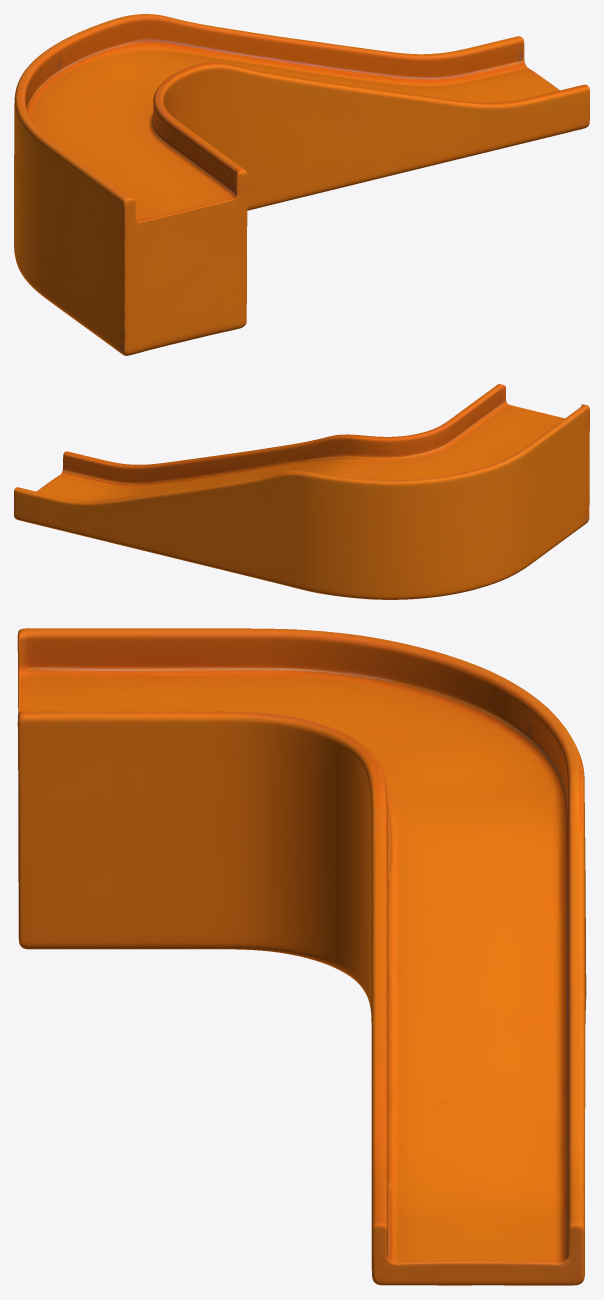
Rendered from ramp left turn.glb.
3 renders of one model, top to bottom at view 1: azimuth 30°, elevation 25°; view 2: azimuth 150°, elevation 25°; view 3: azimuth 270°, elevation 25°, orthographic. The views are drawn at different scales.
Parts seen in each view (by area): view 1: material; view 2: material; view 3: material.
Part boxes in pixels (x1=…): material: x1=14, y1=14, x2=589, y2=355; material: x1=14, y1=384, x2=589, y2=599; material: x1=17, y1=628, x2=586, y2=1285.
Size of the model in its own units: 1.02 by 0.2659 by 0.5788.
1 material, 1 textured.
